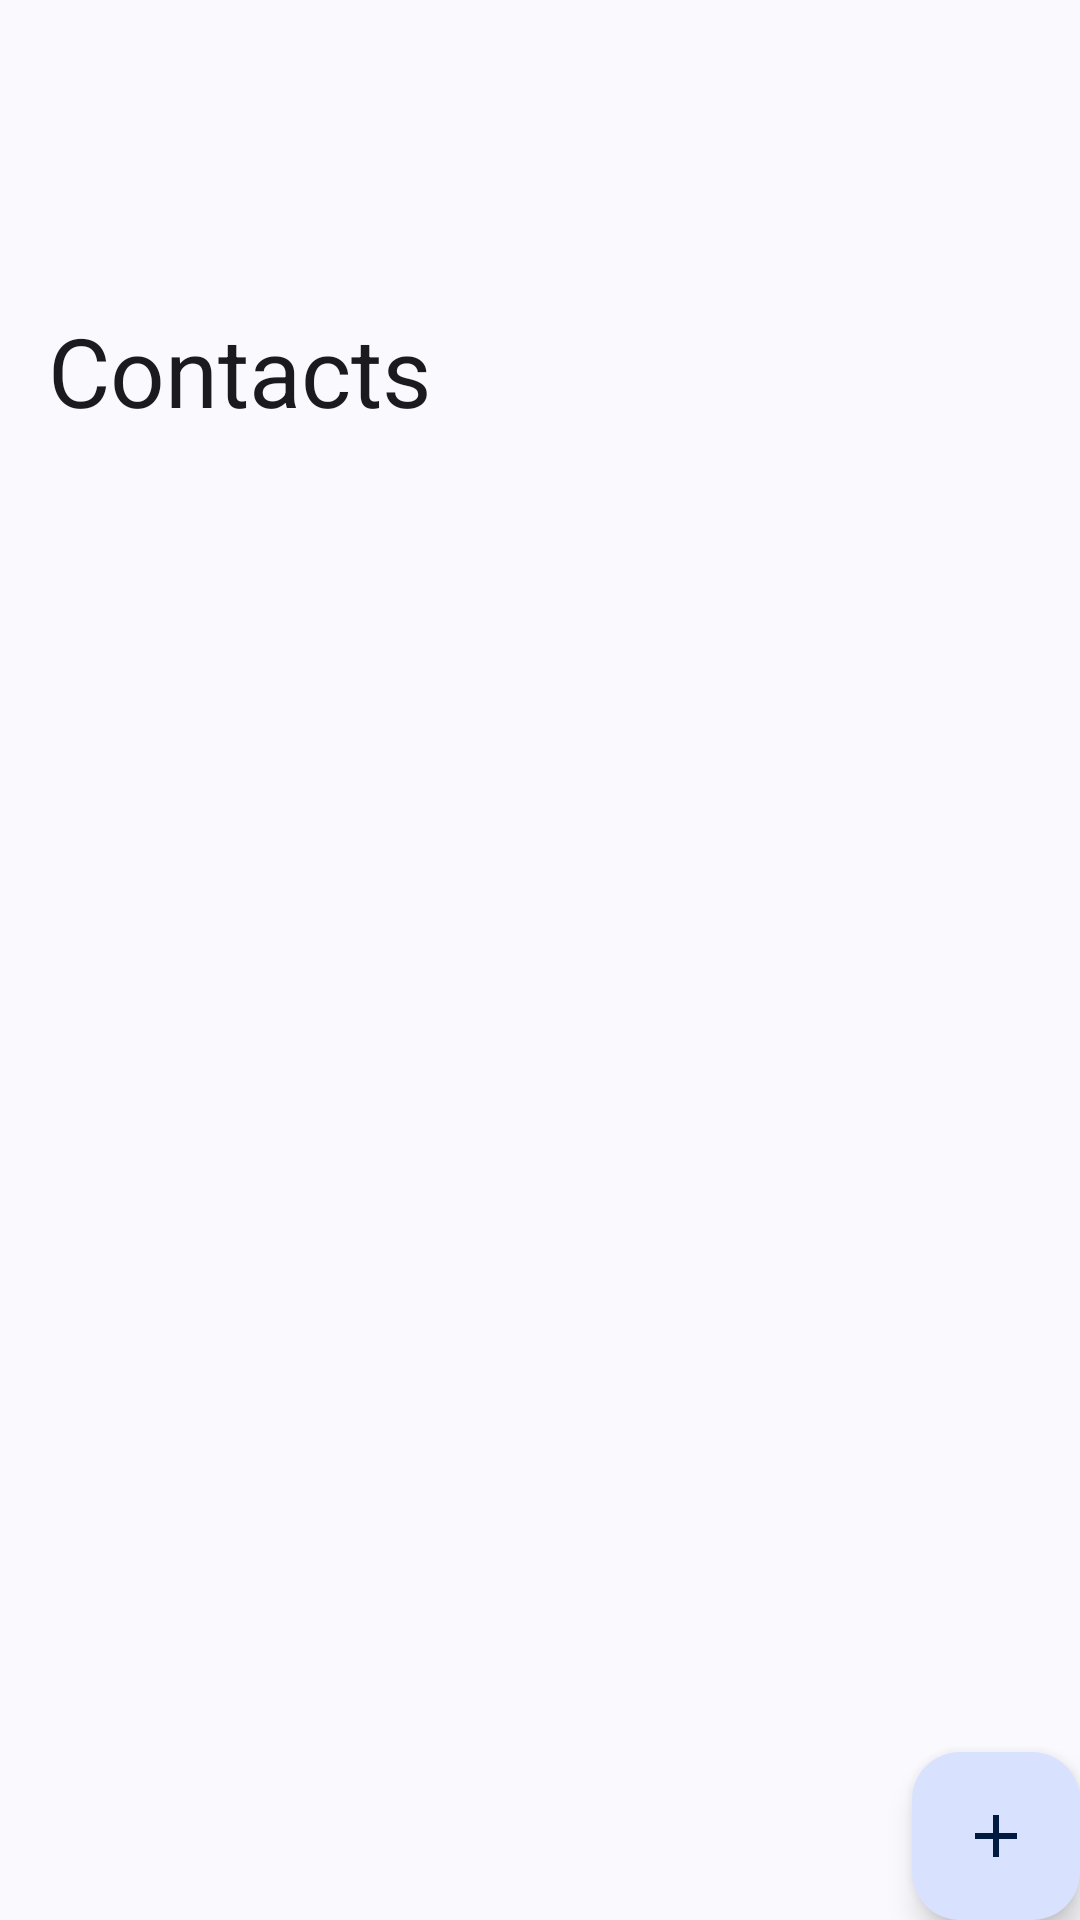

Screen size 1080 x 1920. Icon name, then its center in pixels as [x,y]:
Add contact: [996,1836]
